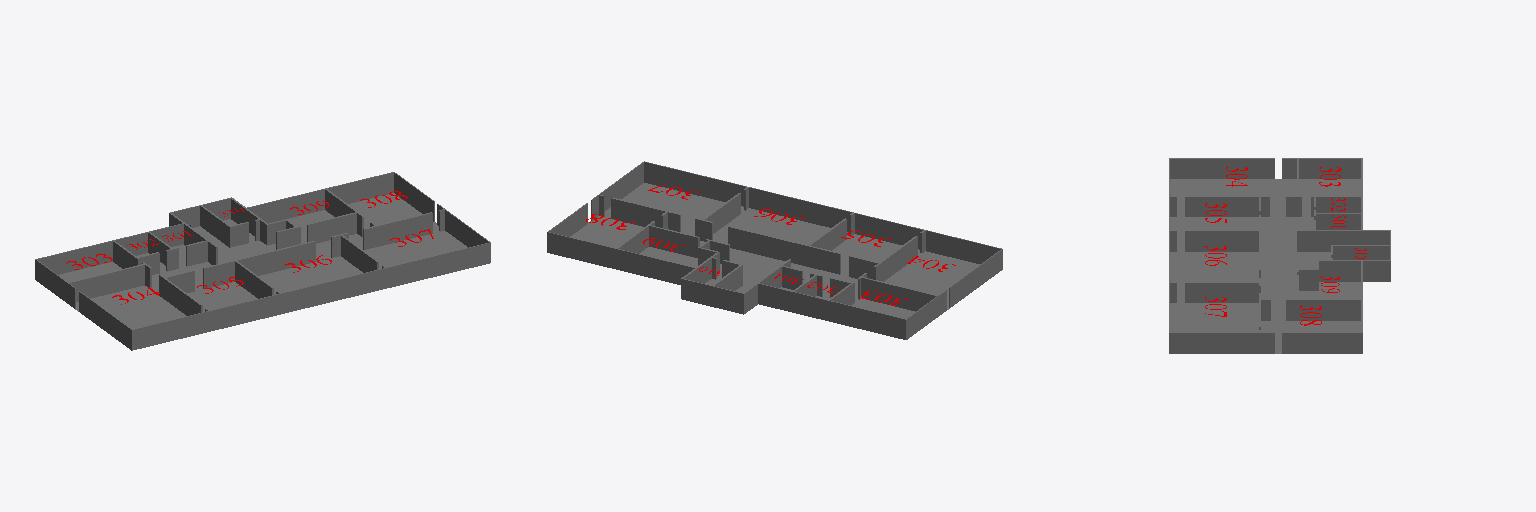
The model's file is fey2.obj.
3 renders of one model, left to right at view 1: azimuth 30°, elevation 25°; view 2: azimuth 150°, elevation 25°; view 3: azimuth 270°, elevation 25°, orthographic.
Parts seen in each view (by area): view 1: polySurface1, pCube1, pCube2, pCube3, pCube22, pCube11, pCube51, pCube4, pCube55, pCube14, pCube38, pCube39 (+8 smaller); view 2: polySurface1, pCube1, pCube3, pCube2, pCube22, pCube8, pCube11, pCube51, pCube4, pCube55, pCube39, pCube14 (+5 smaller); view 3: polySurface1, pCube39, pCube4, pCube38, pCube45, pCube9, pCube14, pCube53, pCube49, pCube27, pCube43, pCube10 (+2 smaller).
Part boxes in pixels (left/top/right/bottom): polySurface1: left=59, top=193, right=467, bottom=329; pCube1: left=131, top=242, right=490, bottom=350; pCube2: left=247, top=172, right=393, bottom=223; pCube3: left=35, top=223, right=183, bottom=279; pCube22: left=203, top=241, right=315, bottom=288; pCube11: left=67, top=264, right=145, bottom=303; pCube51: left=363, top=212, right=432, bottom=249; pCube4: left=79, top=291, right=132, bottom=349; pCube55: left=307, top=212, right=358, bottom=243; pCube14: left=35, top=260, right=75, bottom=308; pCube38: left=394, top=172, right=434, bottom=221; pCube39: left=437, top=204, right=490, bottom=247; polySurface1: left=571, top=183, right=979, bottom=318; pCube1: left=644, top=161, right=1001, bottom=263; pCube3: left=758, top=283, right=906, bottom=339; pCube2: left=547, top=232, right=694, bottom=284; pCube22: left=728, top=226, right=840, bottom=274; pCube8: left=681, top=279, right=744, bottom=314; pCube11: left=861, top=277, right=938, bottom=311; pCube51: left=611, top=198, right=680, bottom=231; pCube4: left=949, top=249, right=1002, bottom=307; pCube55: left=648, top=225, right=699, bottom=257; pCube39: left=591, top=162, right=643, bottom=220; pCube14: left=905, top=290, right=946, bottom=339; polySurface1: left=1170, top=179, right=1360, bottom=353; pCube39: left=1169, top=333, right=1274, bottom=353; pCube4: left=1169, top=158, right=1274, bottom=178; pCube38: left=1282, top=333, right=1362, bottom=353; pCube45: left=1185, top=230, right=1260, bottom=251; pCube9: left=1297, top=230, right=1390, bottom=251; pCube14: left=1282, top=158, right=1361, bottom=178; pCube53: left=1286, top=299, right=1362, bottom=320; pCube49: left=1185, top=282, right=1258, bottom=302; pCube27: left=1317, top=260, right=1390, bottom=281; pCube43: left=1185, top=196, right=1258, bottom=216; pCube10: left=1331, top=245, right=1390, bottom=259.
Size of the model in its own units: 3640 by 202 by 1950.